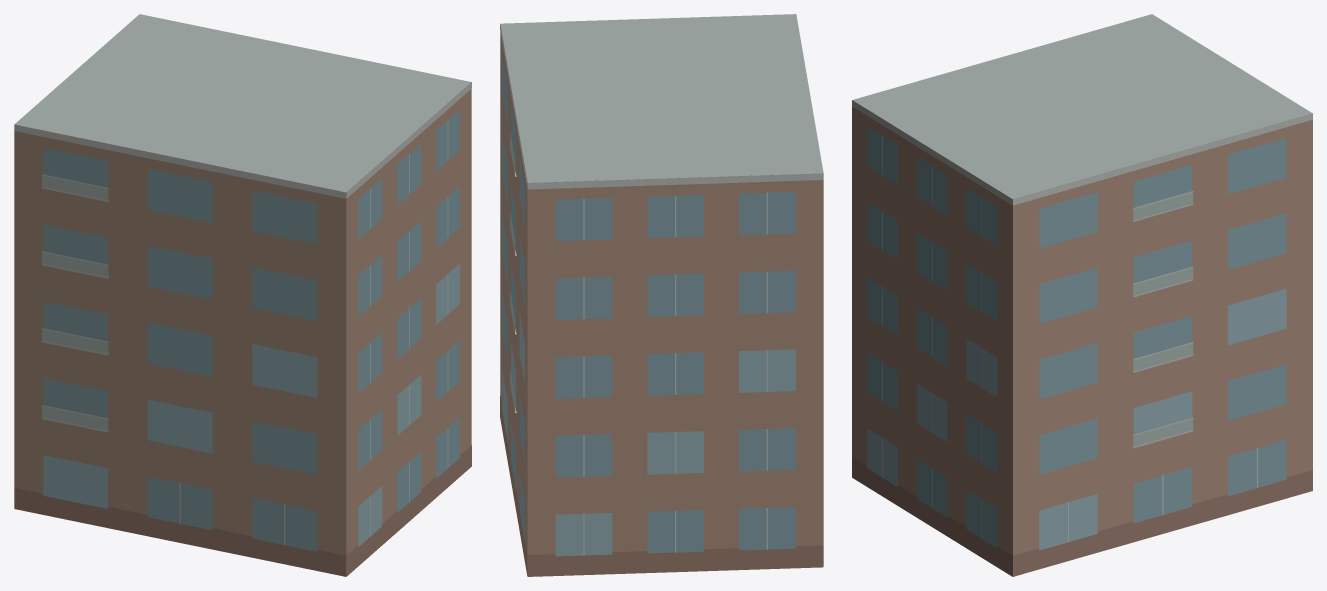
File: survey-upis-32967846.glb
3 views of the same model, side by side, from view 1: azimuth 30°, elevation 25°; view 2: azimuth 150°, elevation 25°; view 3: azimuth 270°, elevation 25° (orthographic). The views are drawn at different scales.
Visible parts, largest first — view 1: survey-upis-32967846.tmp; view 2: survey-upis-32967846.tmp; view 3: survey-upis-32967846.tmp.
Boxes of the visible parts, left/top/right/bottom form: survey-upis-32967846.tmp: left=14, top=14, right=471, bottom=576; survey-upis-32967846.tmp: left=500, top=14, right=823, bottom=576; survey-upis-32967846.tmp: left=852, top=14, right=1312, bottom=576.
Size of the model in its own units: 15.27 by 14.5 by 16.04.
